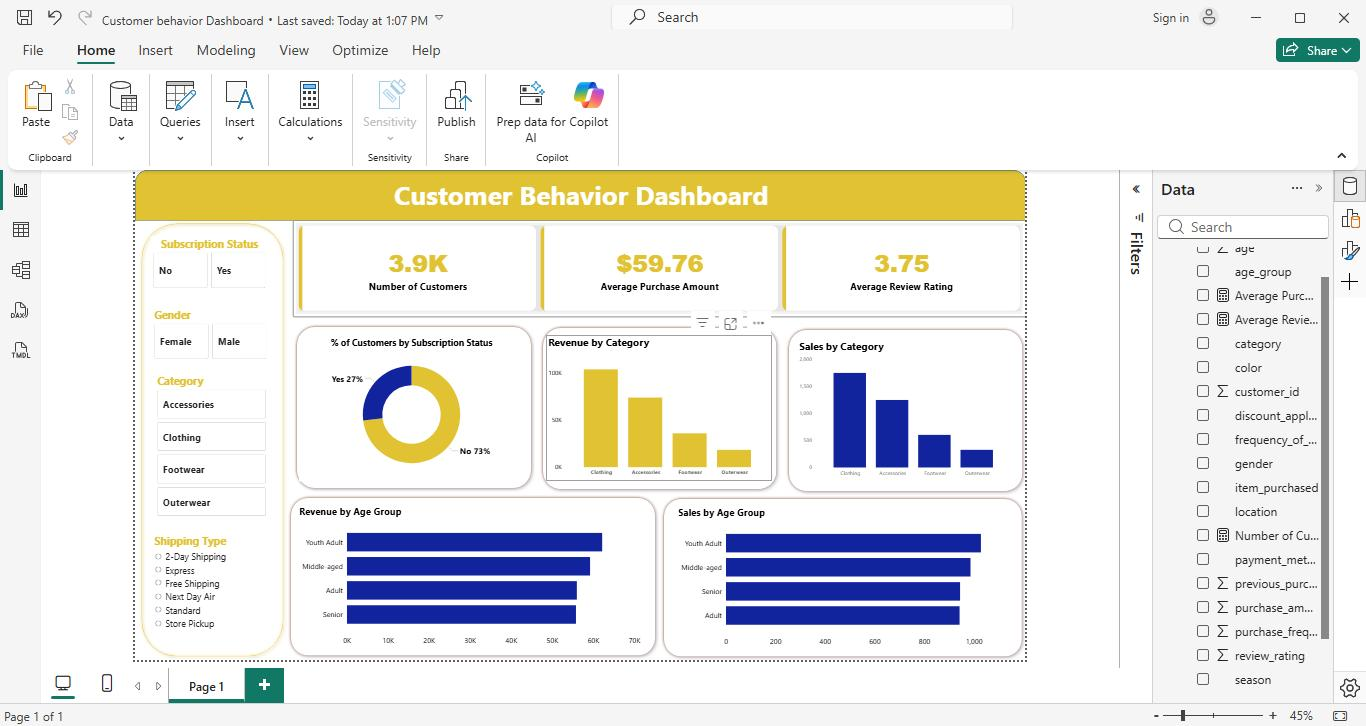

This screenshot's page, from the dashboard's own definition file:
{"tool":"powerbi","page":{"name":"Page 1","canvas":[2000,1100],"ordinal":0},"visuals":[{"type":"shape","box":[340.8,726.3,835.2,371.5],"z":0},{"type":"shape","box":[907.8,346.4,541.9,379.9],"z":1000},{"type":"shape","box":[1458.1,349.2,541.9,379.9],"z":2000},{"type":"cardVisual","fields":{"Data":["customer_behavior customer.Number of Customers","customer_behavior customer.Average Purchase Amount","customer_behavior customer.Average Review Rating"]},"box":[354.7,111.7,1645.3,217.9],"z":3000},{"type":"shape","box":[0,0,2000.2,114.5],"z":4000},{"type":"textbox","box":[5.6,11.2,1994.4,259.8],"z":5000},{"type":"shape","box":[354.7,343.5,543.3,379.4],"z":6000},{"type":"donutChart","title":"% of Customers by Subscription Status","fields":{"Category":["customer_behavior customer.subscription_status"],"Y":["CountNonNull(customer_behavior customer.customer_id)"]},"box":[368.2,372.7,505.1,325.5],"z":7000},{"type":"clusteredColumnChart","title":"Revenue by Category","fields":{"Y":["Sum(customer_behavior customer.purchase_amount)"],"Category":["customer_behavior customer.category"]},"box":[921.8,371.5,508.4,326.8],"z":8000},{"type":"shape","box":[6.7,112.2,334.5,987.8],"z":9000},{"type":"clusteredColumnChart","title":"Sales by Category","fields":{"Y":["CountNonNull(customer_behavior customer.customer_id)"],"Category":["customer_behavior customer.category"]},"box":[1486,379.9,486,318.4],"z":10000},{"type":"advancedSlicerVisual","title":"Subscription Status","fields":{"Values":["customer_behavior customer.subscription_status"]},"box":[36.3,148,262.6,122.9],"z":11000},{"type":"advancedSlicerVisual","title":"Gender ","fields":{"Values":["customer_behavior customer.gender"]},"box":[39.1,307.3,262.6,122.9],"z":12000},{"type":"advancedSlicerVisual","title":"Category","fields":{"Values":["customer_behavior customer.category"]},"box":[44.7,455.3,254.2,329.6],"z":13000},{"type":"listSlicer","title":"Shipping Type","fields":{"Values":["customer_behavior customer.shipping_type"]},"box":[39.1,815.6,259.8,237.4],"z":14000},{"type":"clusteredBarChart","title":"Revenue by Age Group ","fields":{"Y":["Sum(customer_behavior customer.purchase_amount)"],"Category":["customer_behavior customer.age_group"]},"box":[363.1,751.4,776.5,324],"z":15000},{"type":"shape","box":[1178.8,729.1,821.2,371.5],"z":16000},{"type":"clusteredBarChart","title":"Sales by Age Group ","fields":{"Y":["CountNonNull(customer_behavior customer.customer_id)"],"Category":["customer_behavior customer.age_group"]},"box":[1215.1,754.2,748.6,324],"z":16001}]}

Visuals, with their boxes on the page's 2000x1100 design canvas (x1, y1, x2, y2). These are canvas units, not pixel positions in the 1366x726 screenshot, which may show the page scaled, cropped or inside an application window:
shape: x1=341, y1=726, x2=1176, y2=1098
shape: x1=908, y1=346, x2=1450, y2=726
shape: x1=1458, y1=349, x2=2000, y2=729
cardVisual - customer_behavior customer.Number of Customers x customer_behavior customer.Average Purchase Amount: x1=355, y1=112, x2=2000, y2=330
shape: x1=0, y1=0, x2=2000, y2=114
textbox: x1=6, y1=11, x2=2000, y2=271
shape: x1=355, y1=344, x2=898, y2=723
"% of Customers by Subscription Status" donutChart: x1=368, y1=373, x2=873, y2=698
"Revenue by Category" clusteredColumnChart: x1=922, y1=372, x2=1430, y2=698
shape: x1=7, y1=112, x2=341, y2=1100
"Sales by Category" clusteredColumnChart: x1=1486, y1=380, x2=1972, y2=698
"Subscription Status" advancedSlicerVisual: x1=36, y1=148, x2=299, y2=271
"Gender " advancedSlicerVisual: x1=39, y1=307, x2=302, y2=430
"Category" advancedSlicerVisual: x1=45, y1=455, x2=299, y2=785
"Shipping Type" listSlicer: x1=39, y1=816, x2=299, y2=1053
"Revenue by Age Group " clusteredBarChart: x1=363, y1=751, x2=1140, y2=1075
shape: x1=1179, y1=729, x2=2000, y2=1101
"Sales by Age Group " clusteredBarChart: x1=1215, y1=754, x2=1964, y2=1078
